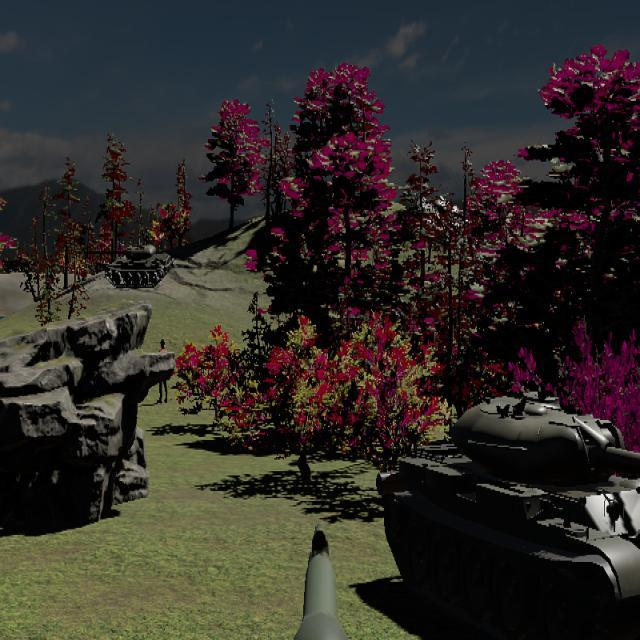Tank: (378, 385, 640, 639), (99, 242, 175, 289)
